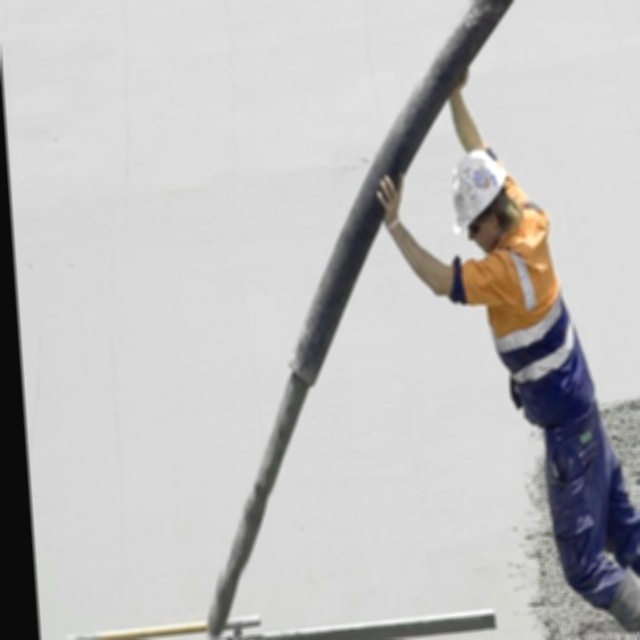Con_Casco: (448, 145, 516, 248)
